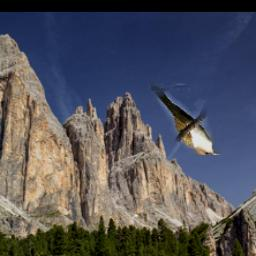Cuckoo: (149, 83, 220, 155)
